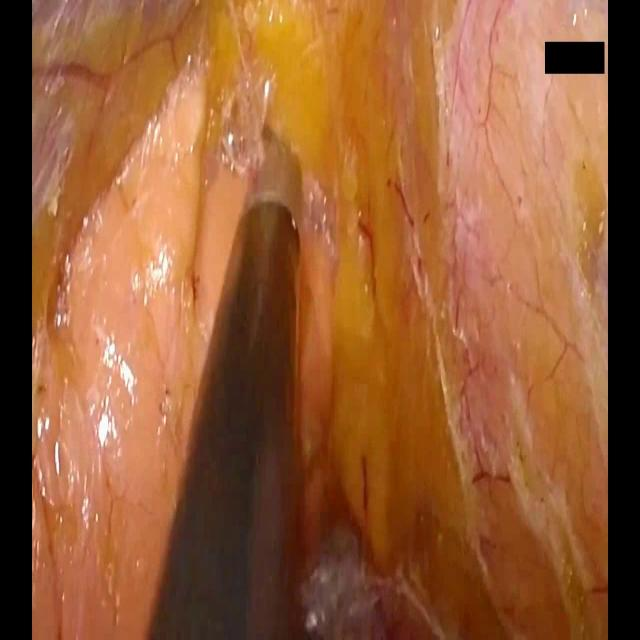surgical-area: (32, 0, 608, 639)
surgical-tool: (142, 125, 304, 638)
